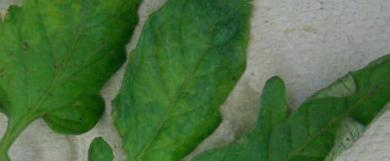Tomato leaf mosaic virus: (185, 26, 390, 161), (0, 0, 150, 149), (116, 0, 244, 161)
